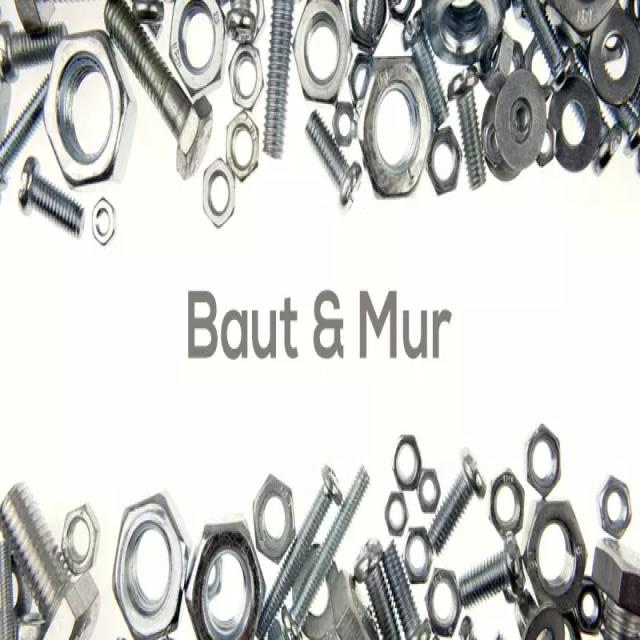Logam: (301, 0, 584, 266), (129, 0, 259, 224), (40, 20, 132, 174), (18, 150, 93, 266)
